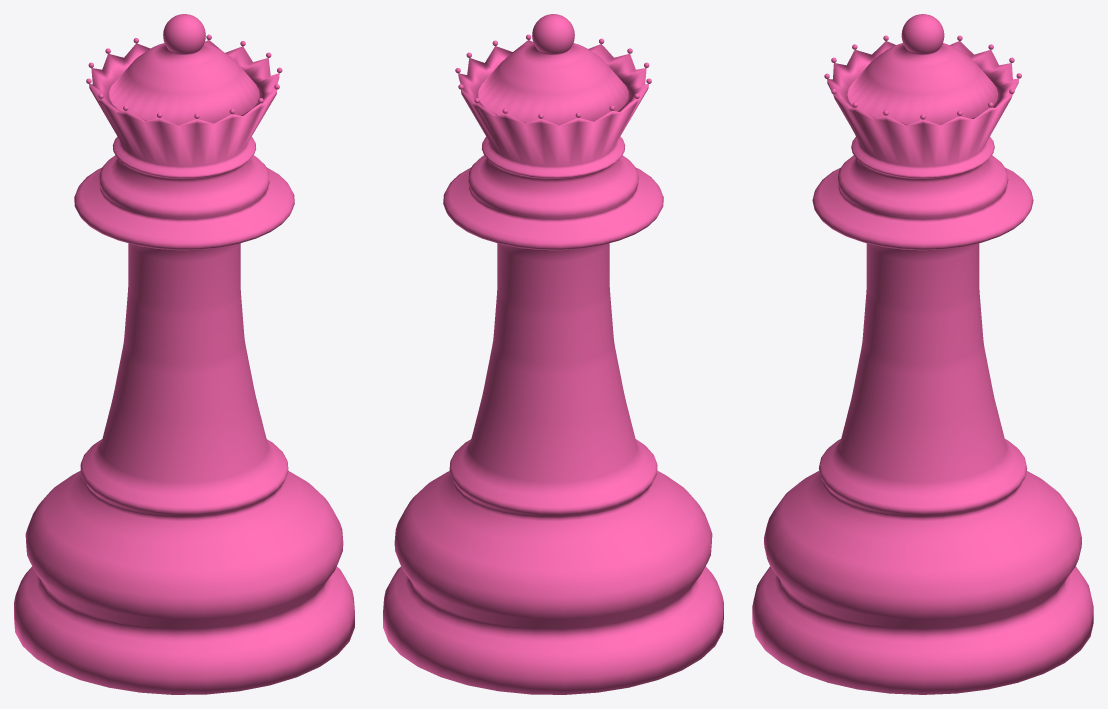
Rendered from light_queen_1.fbx.
3 views of the same model, side by side, from view 1: azimuth 30°, elevation 25°; view 2: azimuth 150°, elevation 25°; view 3: azimuth 270°, elevation 25° (orthographic).
Parts seen in each view (by area): view 1: Light Queen1; view 2: Light Queen1; view 3: Light Queen1.
Boxes of the visible parts, x1,y1,x2,y2 form: Light Queen1: [14, 14, 354, 694]; Light Queen1: [383, 14, 723, 694]; Light Queen1: [752, 14, 1093, 694].
Bounding box in the file's own units: 96.87 × 190 × 96.87.
